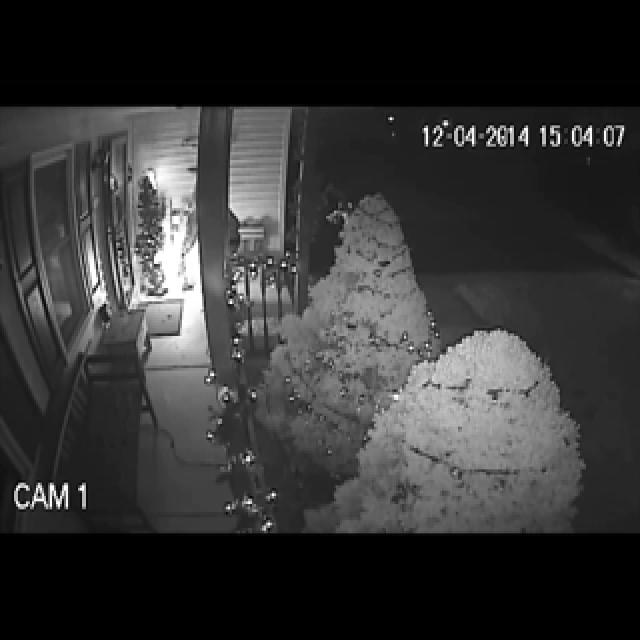arson: (102, 111, 302, 392)
